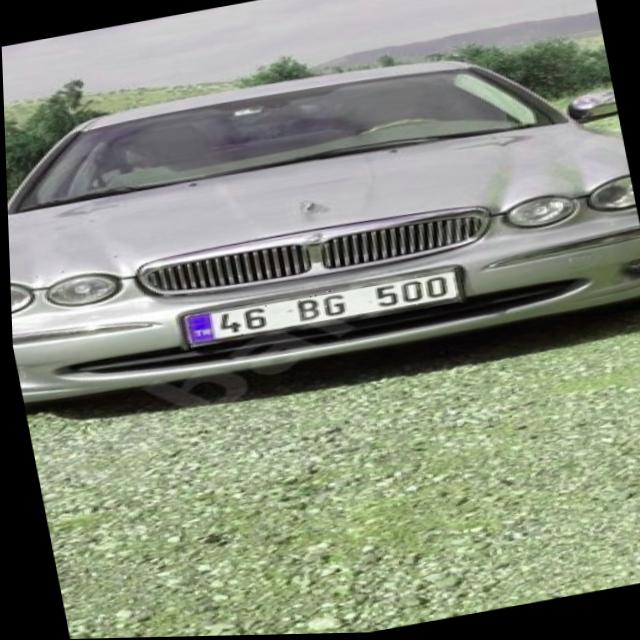license_plate: (180, 269, 459, 349)
